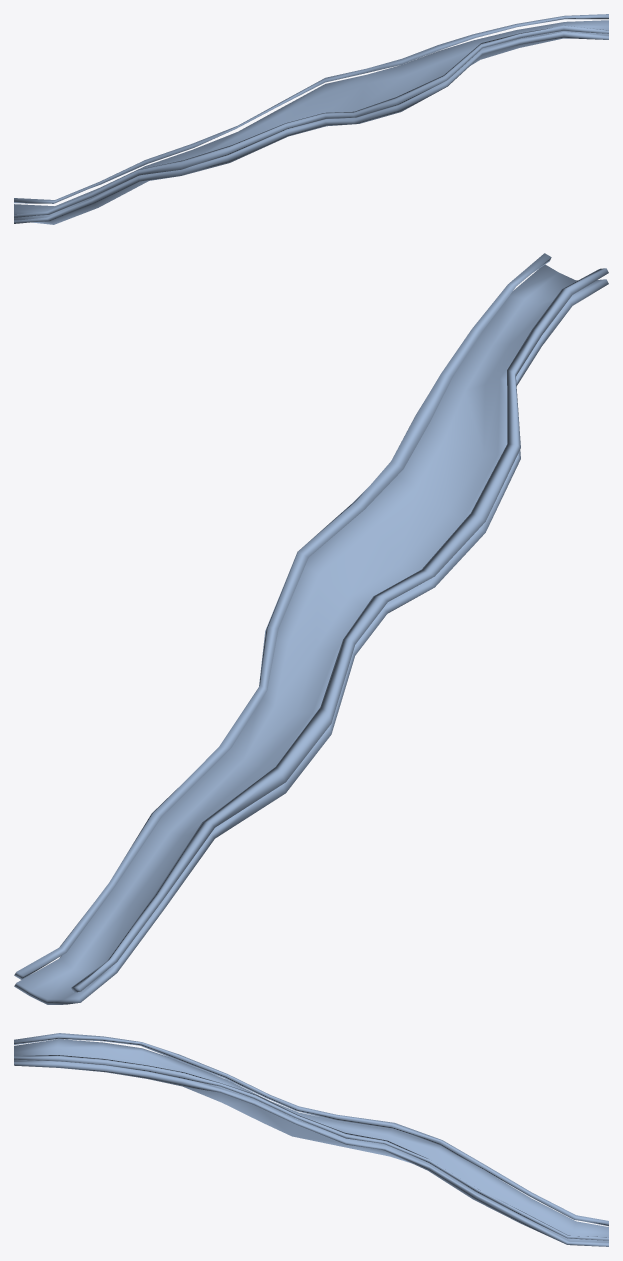
Rendered from junRoadLongSlope2p5.fbx.
3 views of the same model, one above another, from view 1: azimuth 90°, elevation 25°; view 2: azimuth 150°, elevation 25°; view 3: azimuth 270°, elevation 25° (orthographic). The views are drawn at different scales.
Parts seen in each view (by area): view 1: junRoadLongSlope2p5_LOD0, junRoadLongSlope2p5_edge_LOD0; view 2: junRoadLongSlope2p5_LOD0, junRoadLongSlope2p5_edge_LOD0; view 3: junRoadLongSlope2p5_LOD0, junRoadLongSlope2p5_edge_LOD0.
Boxes of the visible parts, x1,y1,x2,y2 form: junRoadLongSlope2p5_LOD0: [14, 20, 608, 224]; junRoadLongSlope2p5_edge_LOD0: [14, 14, 608, 217]; junRoadLongSlope2p5_LOD0: [14, 264, 608, 1004]; junRoadLongSlope2p5_edge_LOD0: [14, 253, 608, 992]; junRoadLongSlope2p5_LOD0: [14, 1039, 608, 1246]; junRoadLongSlope2p5_edge_LOD0: [14, 1033, 608, 1240].
Size of the model in its own units: 633 by 1659 by 4390.
